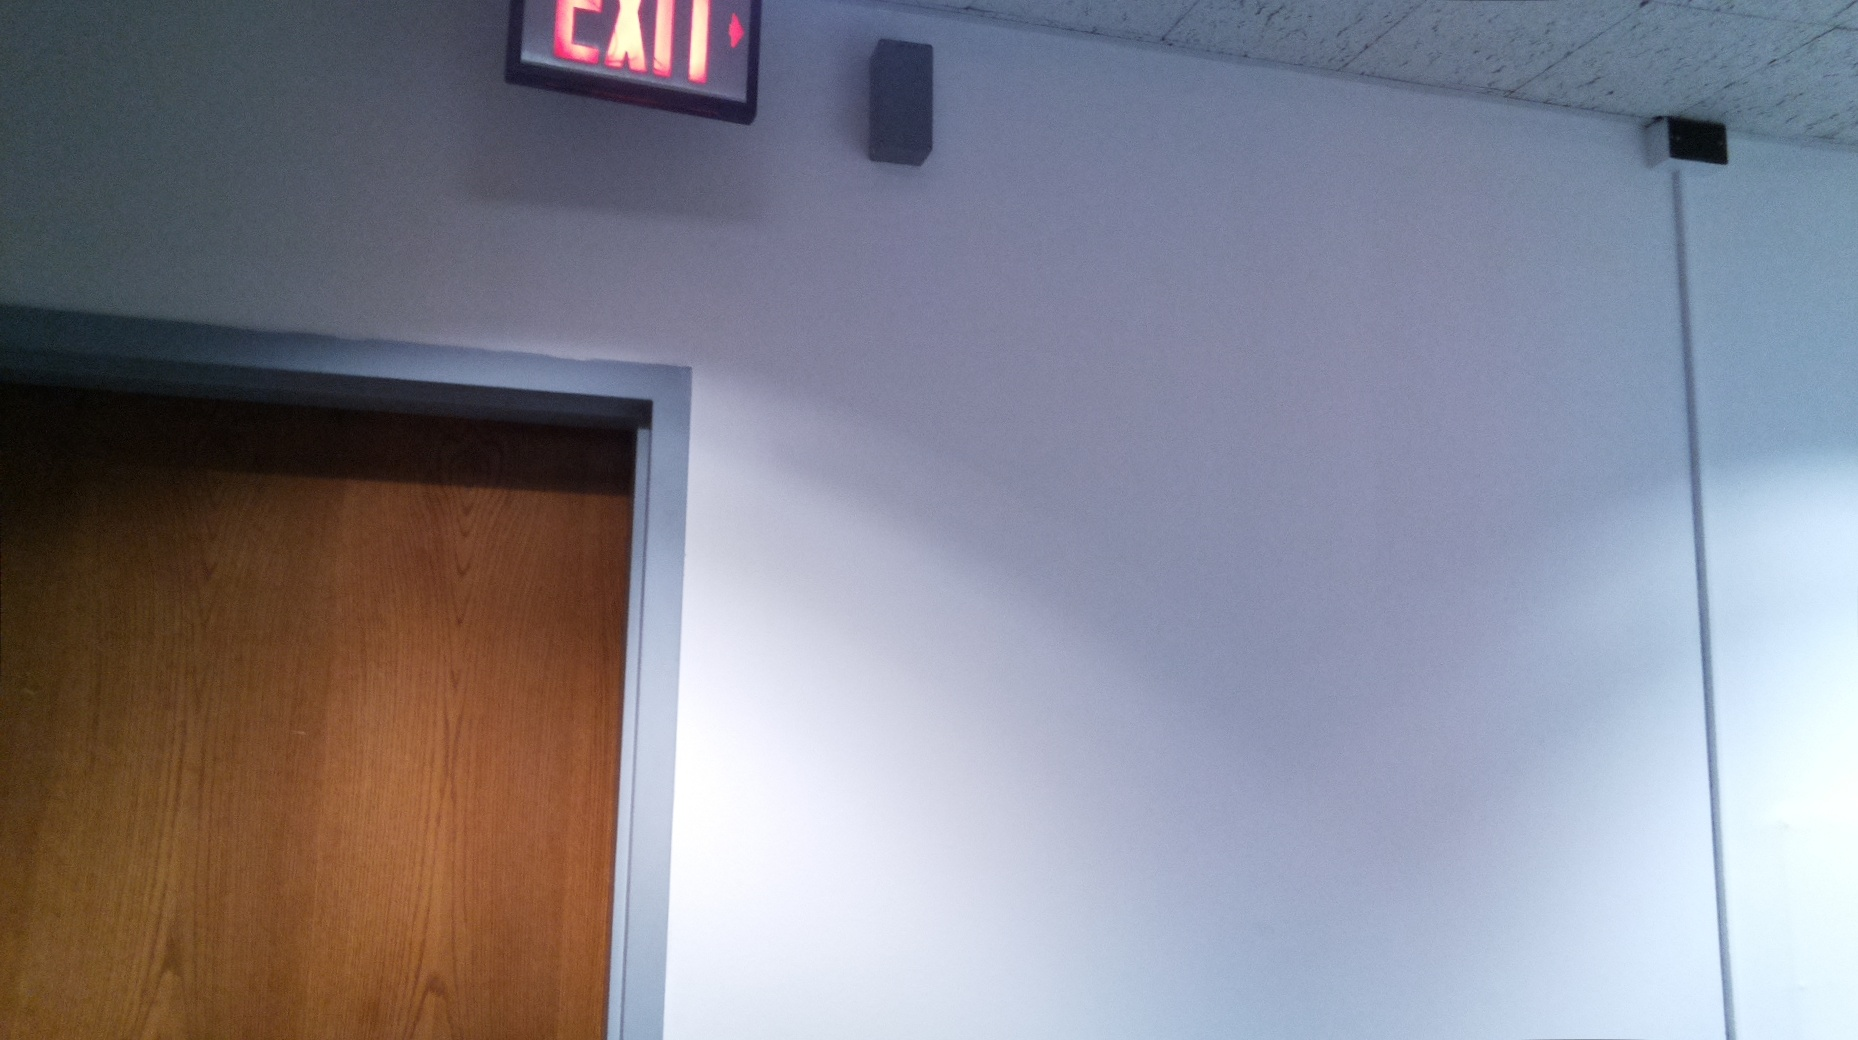exit sign: (498, 1, 767, 129)
